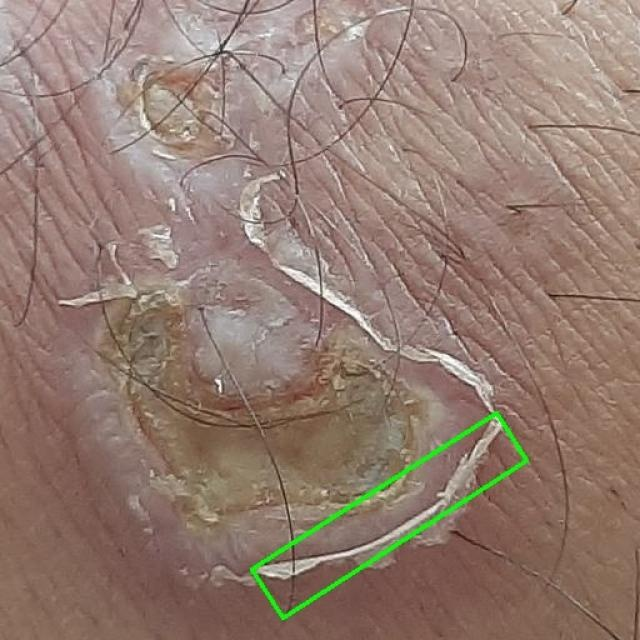Contact Dermatitis: (252, 413, 527, 618)
